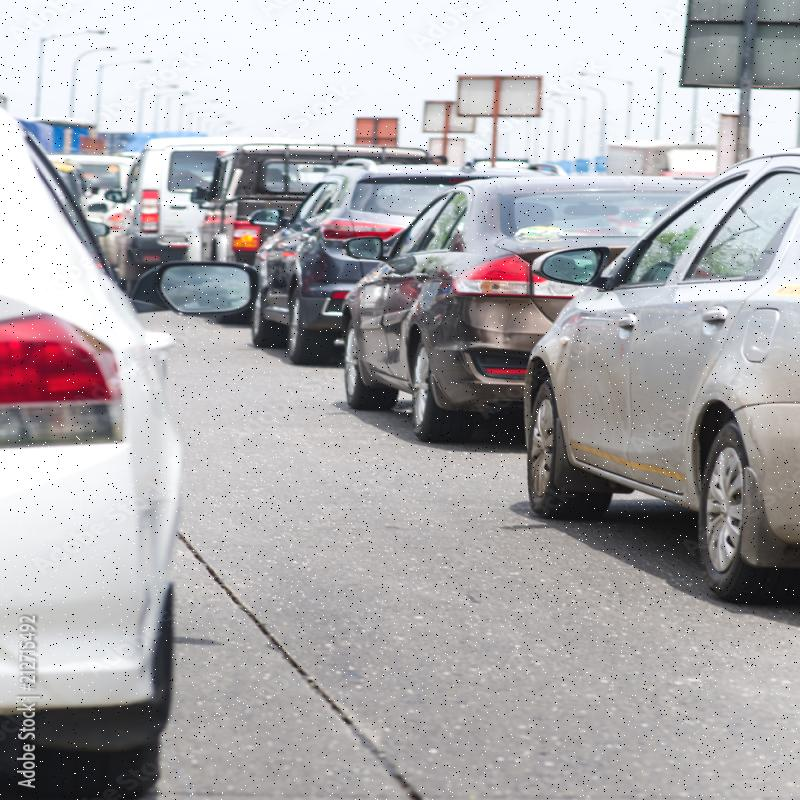car: (563, 150, 800, 634), (356, 179, 605, 445), (256, 171, 420, 362)
